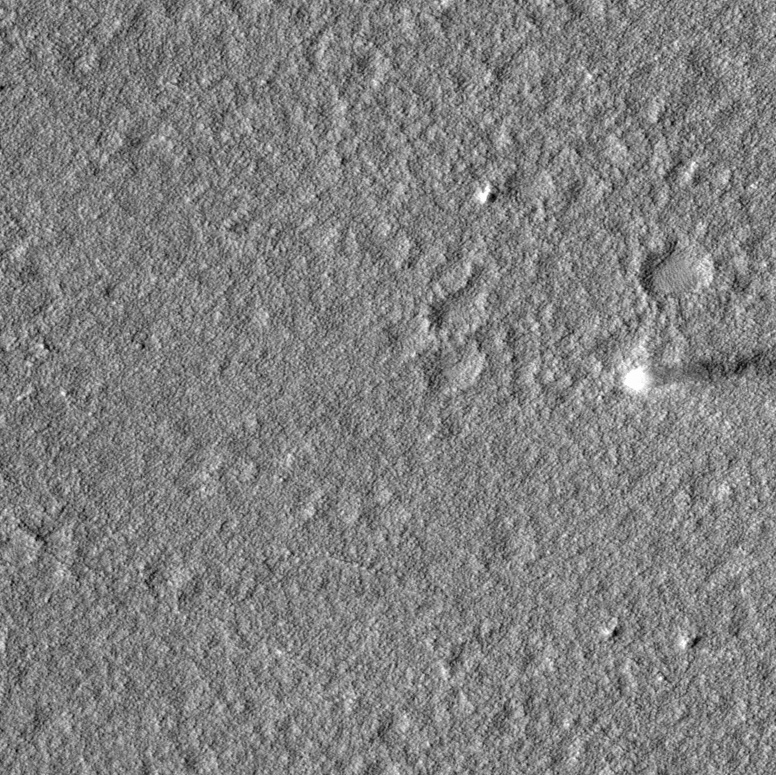dust_devil: (616, 346, 776, 395)
